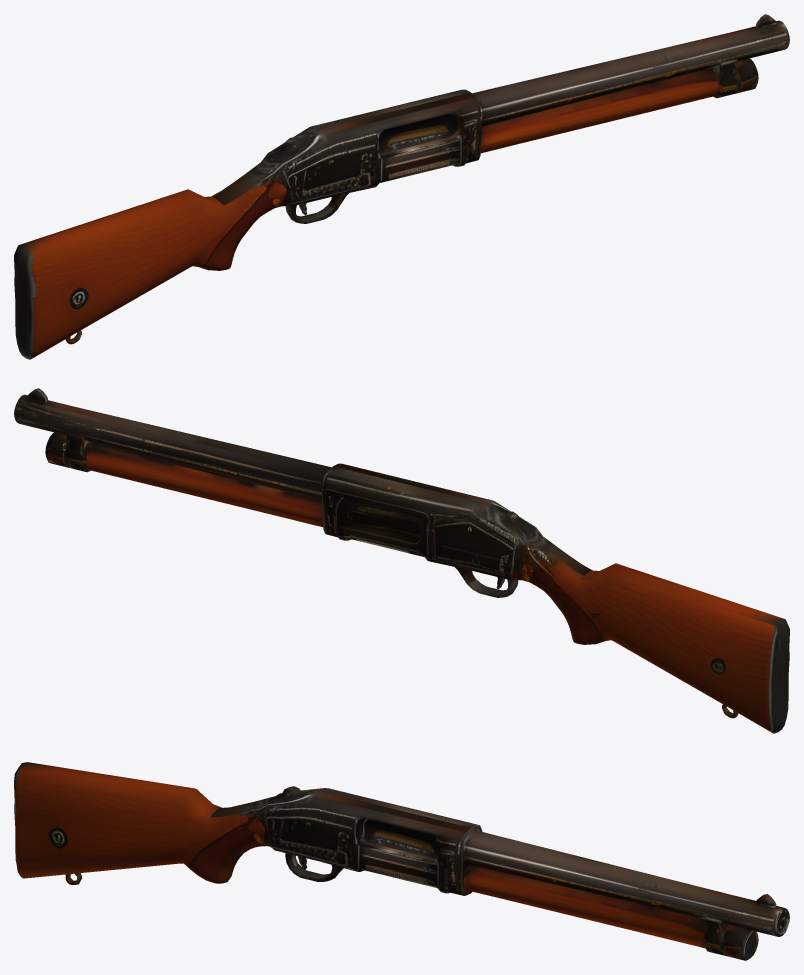
Rendered from shotgun_body.glb.
3 renders of one model, top to bottom at view 1: azimuth 30°, elevation 25°; view 2: azimuth 150°, elevation 25°; view 3: azimuth 330°, elevation 25°, orthographic.
Visible parts, largest first — view 1: texture_pbr_v128; view 2: texture_pbr_v128; view 3: texture_pbr_v128.
Part boxes in pixels (left/top/right/bottom): texture_pbr_v128: left=14, top=14, right=789, bottom=359; texture_pbr_v128: left=14, top=388, right=789, bottom=733; texture_pbr_v128: left=14, top=762, right=789, bottom=960.
Bounding box in the file's own units: 1.18 × 0.2402 × 0.0616.
1 material, 1 textured.
